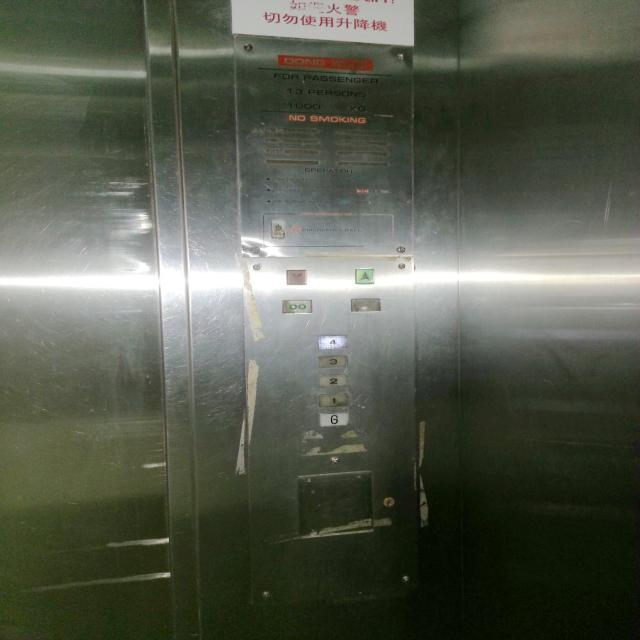1: (318, 392, 350, 407)
2: (317, 374, 349, 387)
3: (317, 354, 350, 369)
4: (317, 334, 349, 350)
DO: (281, 299, 313, 313)
G: (317, 410, 350, 428)
alarm: (270, 218, 286, 240)
down: (285, 268, 307, 286)
empty: (351, 297, 384, 313)
keyhole: (382, 494, 396, 509)
up: (354, 267, 374, 284)
